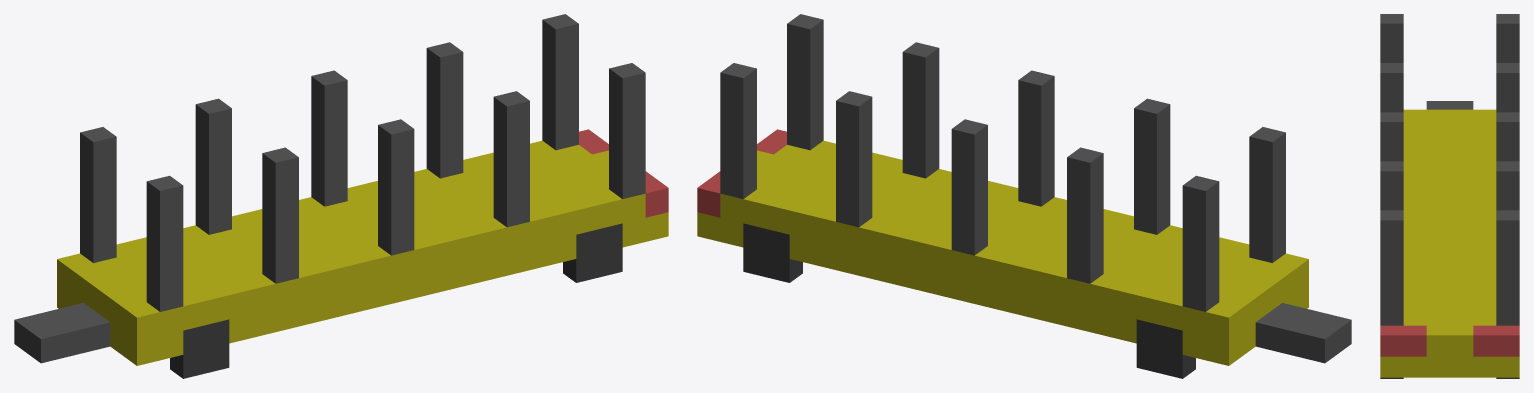
Rendered from truck-trailer-v4-yellow.gltf.
3 renders of one model, left to right at view 1: azimuth 30°, elevation 25°; view 2: azimuth 150°, elevation 25°; view 3: azimuth 270°, elevation 25°, orthographic. The views are drawn at different scales.
Visible parts, largest first — view 1: model, wheels; view 2: model, wheels; view 3: model.
Part boxes in pixels (x1,y1,x2,y2): model: (14, 14, 668, 365); wheels: (170, 223, 622, 378); model: (697, 14, 1351, 365); wheels: (743, 223, 1195, 378); model: (1380, 14, 1519, 377).
Size of the model in its own units: 2.6 by 0.8 by 0.6.
Materials: 2 (2 with a texture image).
